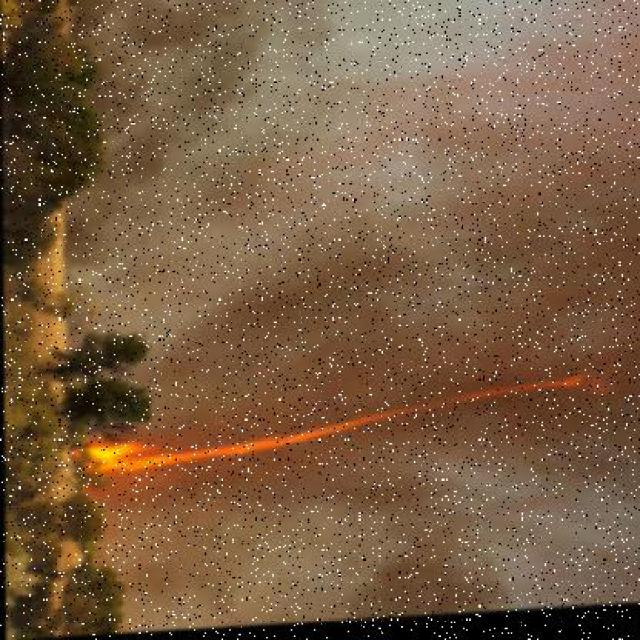fire: (73, 360, 617, 509)
